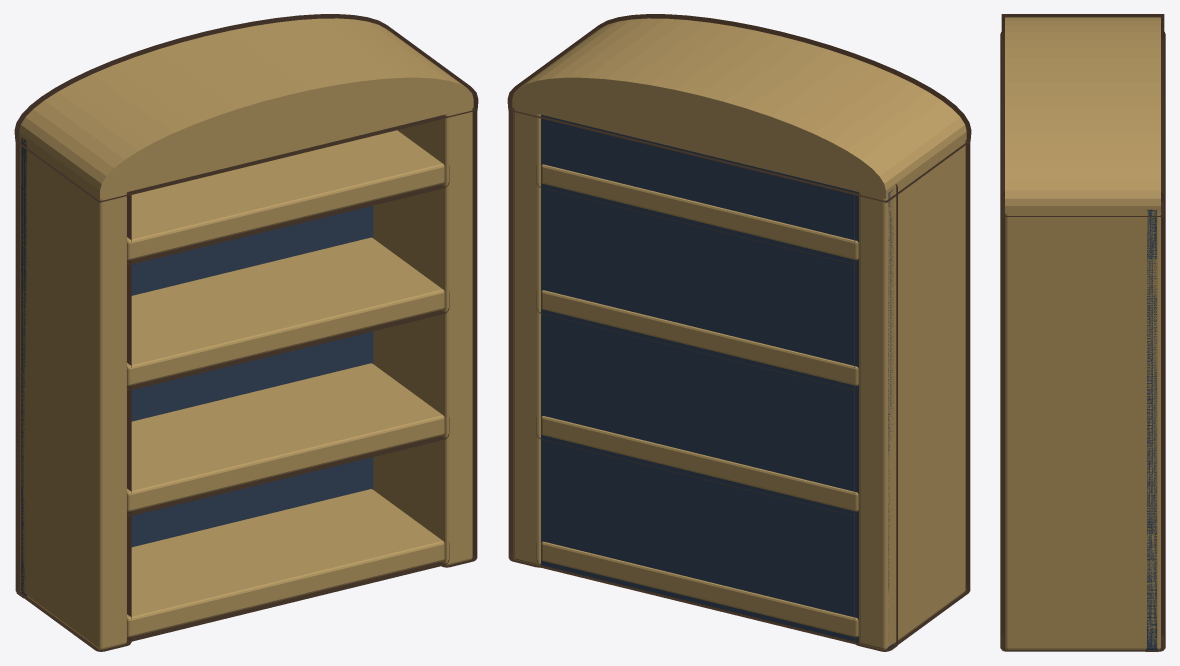
Rendered from observatory-bookcase.glb.
The picture shows the model from 3 angles, left to right: view 1: azimuth 30°, elevation 25°; view 2: azimuth 150°, elevation 25°; view 3: azimuth 270°, elevation 25°; orthographic projection. The views are drawn at different scales.
Parts seen in each view (by area): view 1: observatory-bookcase, observatory-bookcase-outline; view 2: observatory-bookcase, observatory-bookcase-outline; view 3: observatory-bookcase, observatory-bookcase-outline.
Boxes of the visible parts, x1,y1,x2,y2 form: observatory-bookcase: (19, 18, 473, 649); observatory-bookcase-outline: (14, 14, 478, 651); observatory-bookcase: (512, 18, 966, 649); observatory-bookcase-outline: (507, 14, 971, 651); observatory-bookcase: (1005, 17, 1160, 649); observatory-bookcase-outline: (1000, 14, 1165, 651).
Bounding box in the file's own units: 1.64 × 2.1 × 0.6354.
